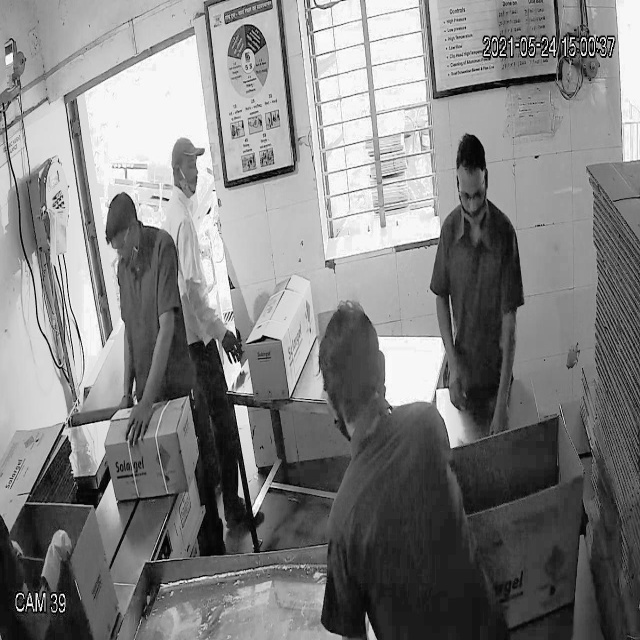Gafas: (455, 177, 491, 211)
